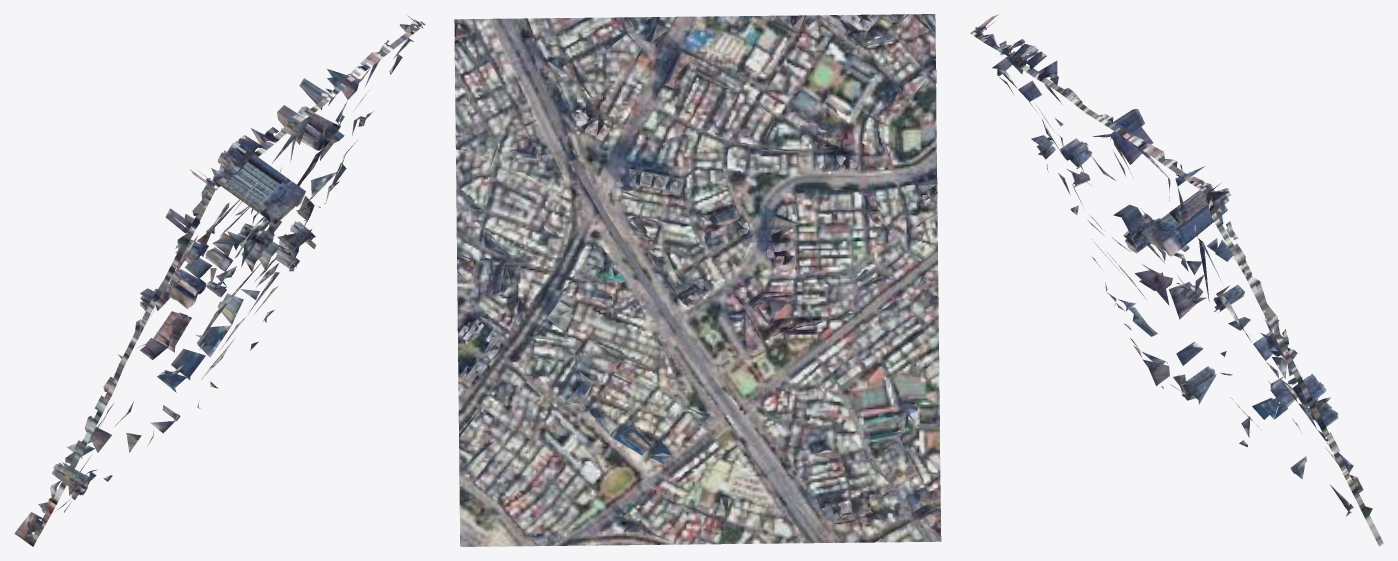
3 views of the same model, side by side, from view 1: azimuth 30°, elevation 25°; view 2: azimuth 150°, elevation 25°; view 3: azimuth 270°, elevation 25° (orthographic). The views are drawn at different scales.
Bounding box in the file's own units: 1243 × 1141 × 1034.
Materials: 2 (2 with a texture image).
